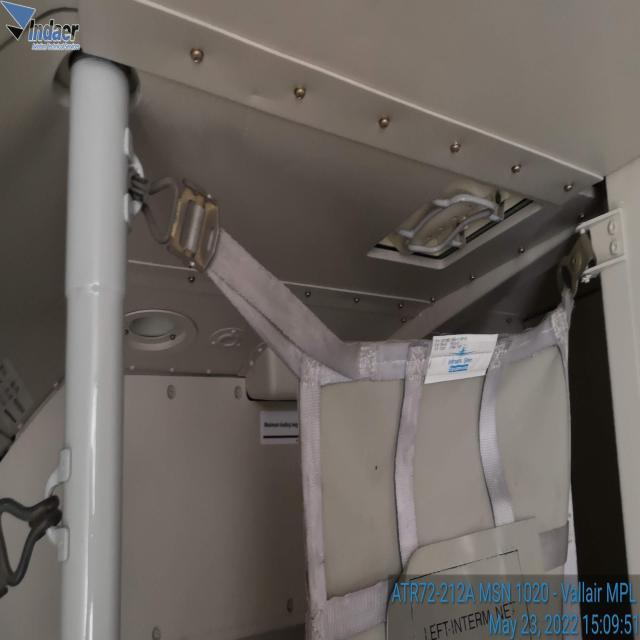dent: (240, 78, 290, 122)
